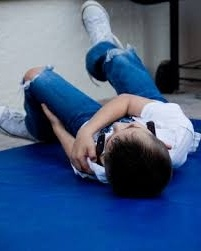fall: (4, 4, 197, 198)
